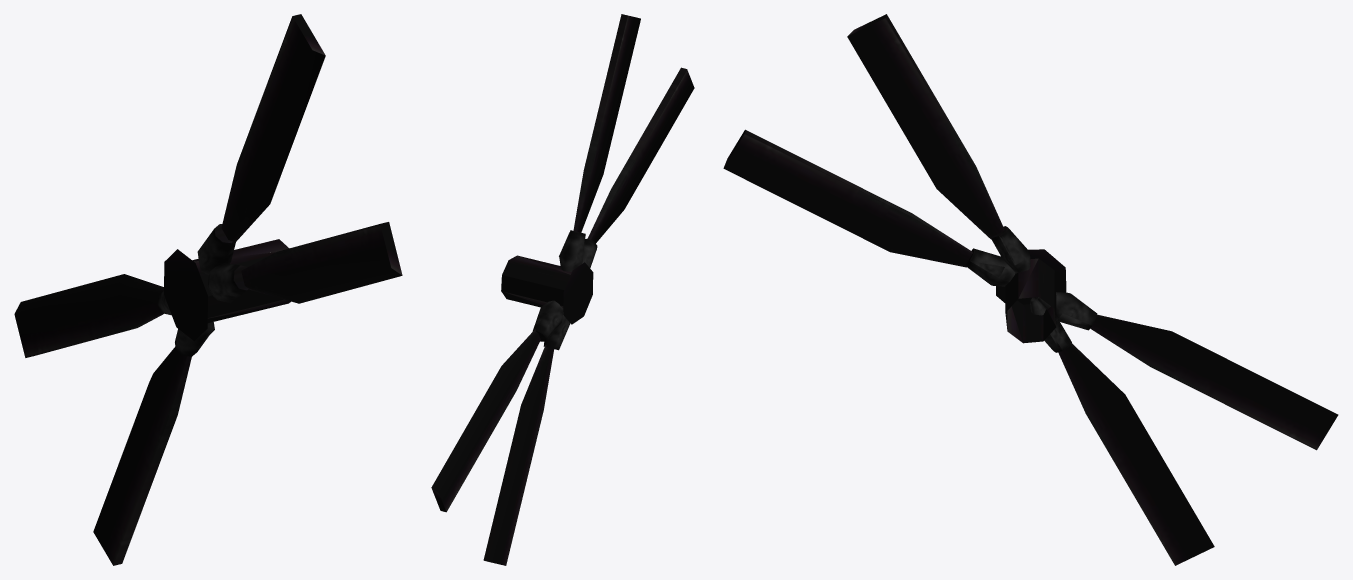
File: apacherotor2.obj
The picture shows the model from 3 angles, left to right: view 1: azimuth 30°, elevation 25°; view 2: azimuth 150°, elevation 25°; view 3: azimuth 270°, elevation 25°; orthographic projection. The views are drawn at different scales.
Parts seen in each view (by area): view 1: apacherotor2; view 2: apacherotor2; view 3: apacherotor2.
Boxes of the visible parts, left/top/right/bottom form: apacherotor2: left=14, top=14, right=402, bottom=565; apacherotor2: left=431, top=14, right=694, bottom=565; apacherotor2: left=723, top=14, right=1338, bottom=565.
Bounding box in the file's own units: 0.2388 × 1.59 × 1.61.
1 material, 1 textured.
